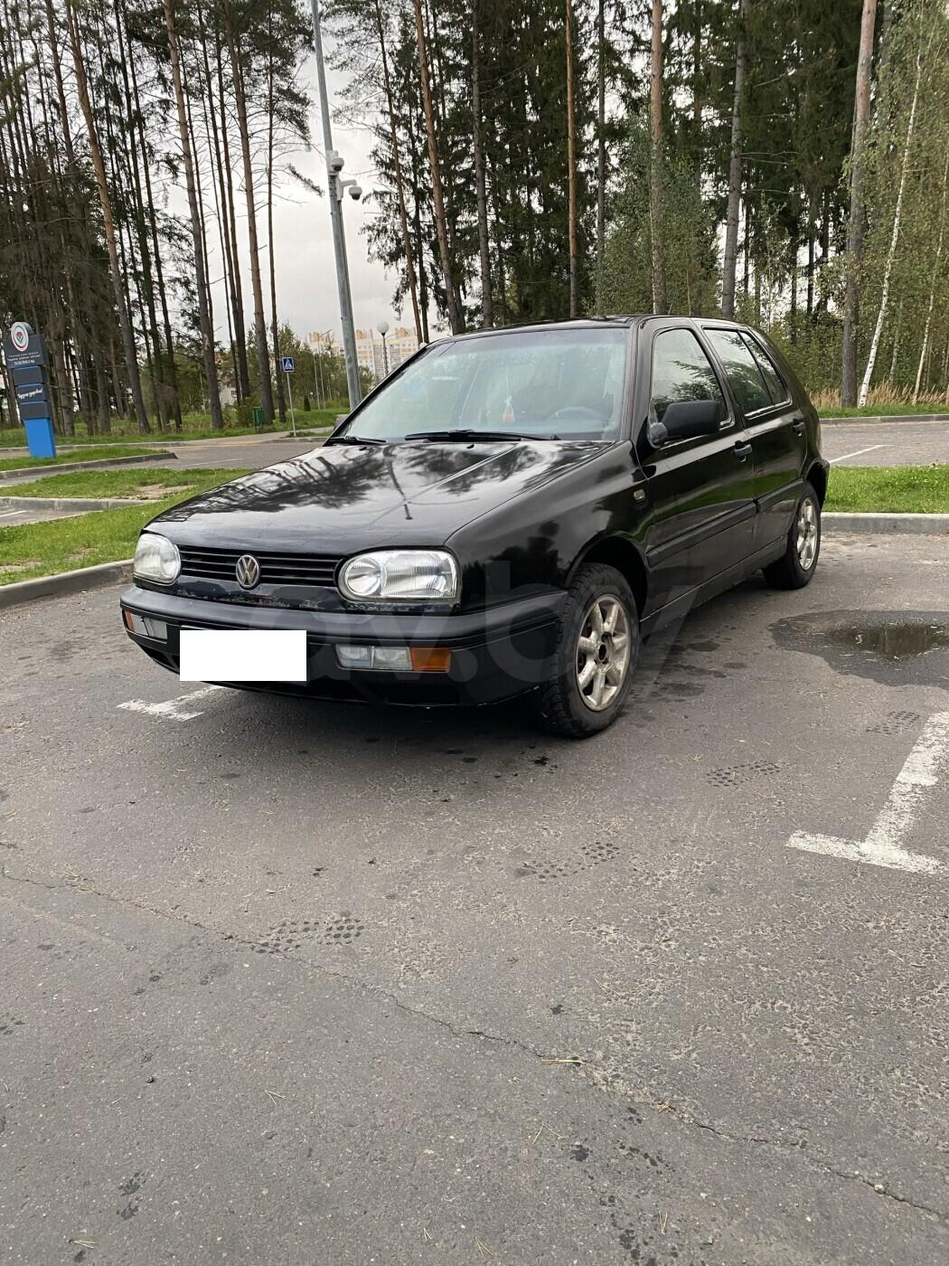Golf_1991-2000: (117, 301, 849, 741)
